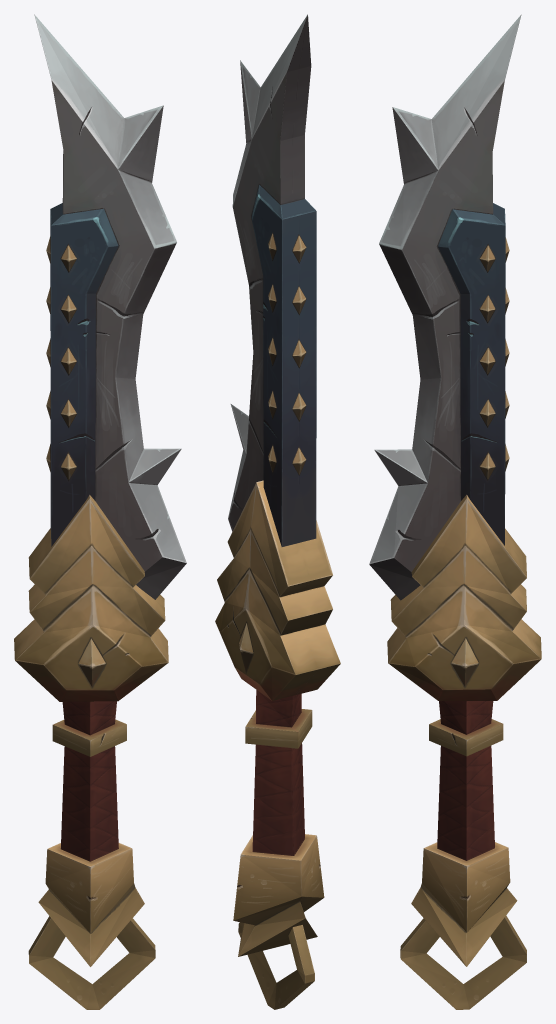
The model's file is handpaint_sword.obj.
The picture shows the model from 3 angles, left to right: view 1: azimuth 90°, elevation 25°; view 2: azimuth 210°, elevation 25°; view 3: azimuth 270°, elevation 25°; orthographic projection. The views are drawn at different scales.
Visible parts, largest first — view 1: Object_2; view 2: Object_2; view 3: Object_2.
Part boxes in pixels (box(x1,y1,x2,y2)): Object_2: box(14, 14, 186, 1009); Object_2: box(215, 14, 340, 1009); Object_2: box(369, 14, 541, 1009).
Size of the model in its own units: 0.1313 by 1.38 by 0.2181.
Materials: 1 (1 with a texture image).
